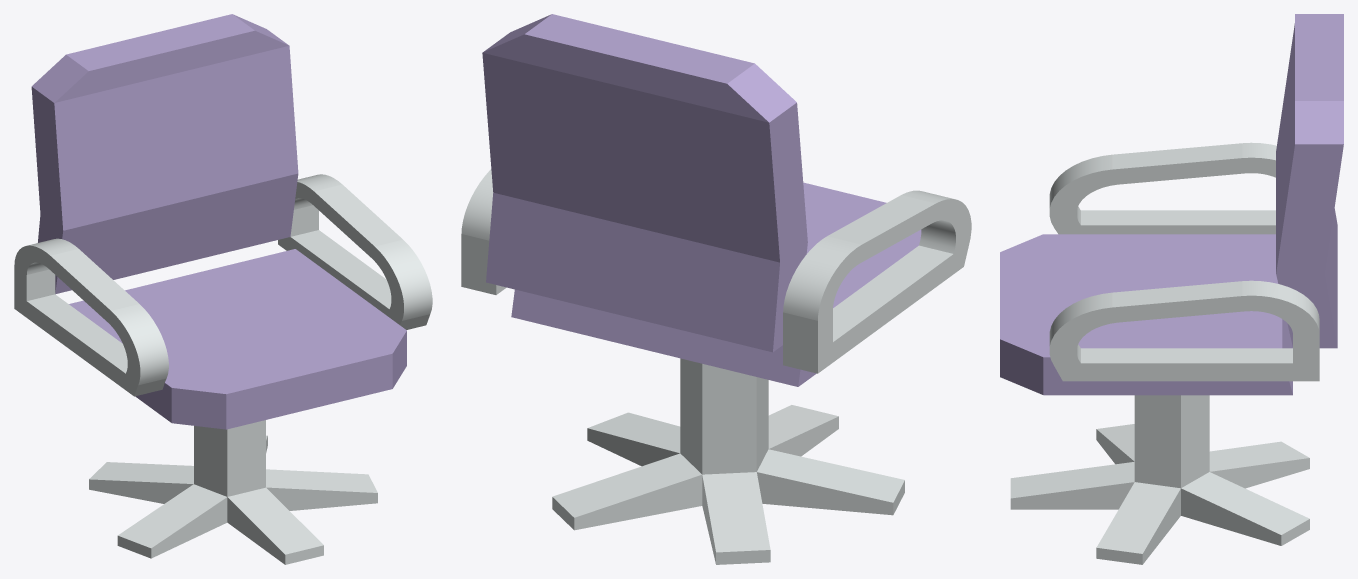
The model's file is office-chair-lavender.glb.
The picture shows the model from 3 angles, left to right: view 1: azimuth 30°, elevation 25°; view 2: azimuth 150°, elevation 25°; view 3: azimuth 270°, elevation 25°; orthographic projection. The views are drawn at different scales.
Visible parts, largest first — view 1: vendor-lavender, vendor-aluminium; view 2: vendor-lavender, vendor-aluminium; view 3: vendor-aluminium, vendor-lavender.
Boxes of the visible parts, x1=… form: vendor-lavender: x1=31, y1=14, x2=406, y2=429; vendor-aluminium: x1=14, y1=174, x2=432, y2=564; vendor-lavender: x1=482, y1=14, x2=921, y2=386; vendor-aluminium: x1=461, y1=169, x2=971, y2=564; vendor-aluminium: x1=1010, y1=142, x2=1319, y2=564; vendor-lavender: x1=1000, y1=14, x2=1343, y2=395.
Bounding box in the file's own units: 1.37 × 1.84 × 1.3.
1 material, 1 textured.
